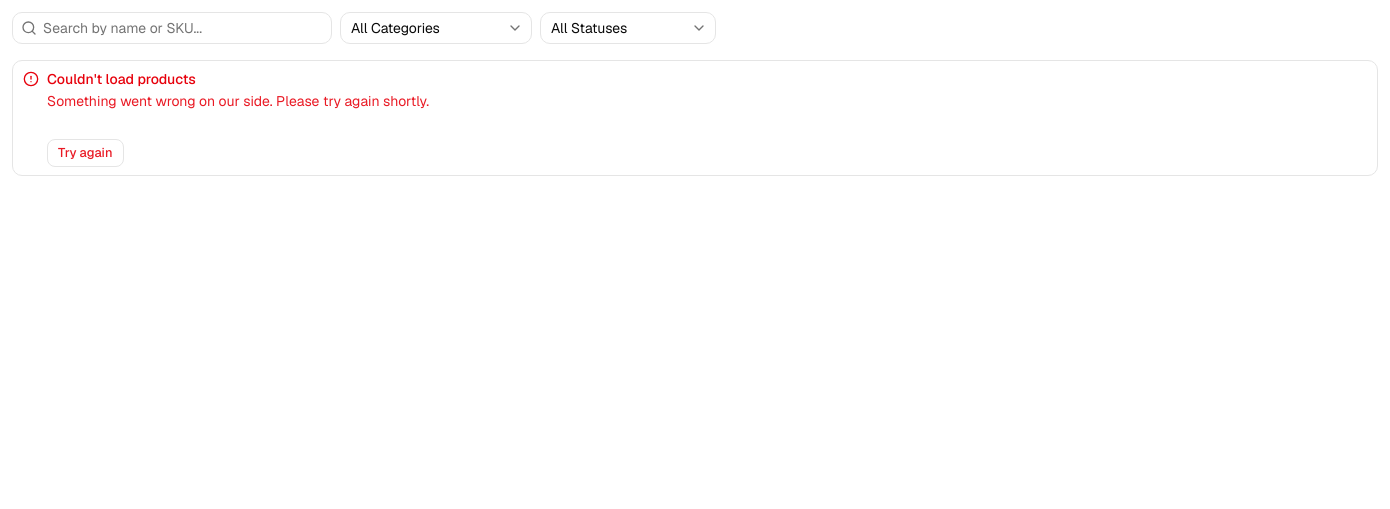
Test case: ProductsList loading › explains a failed load and retries on request
Expected: the message shows "Couldn't load products", [12,60,1378,176]
Expected: the message does not show "internal detail", [12,60,1378,176]
Click the button "Try again": (85, 153) [47,139,124,167]
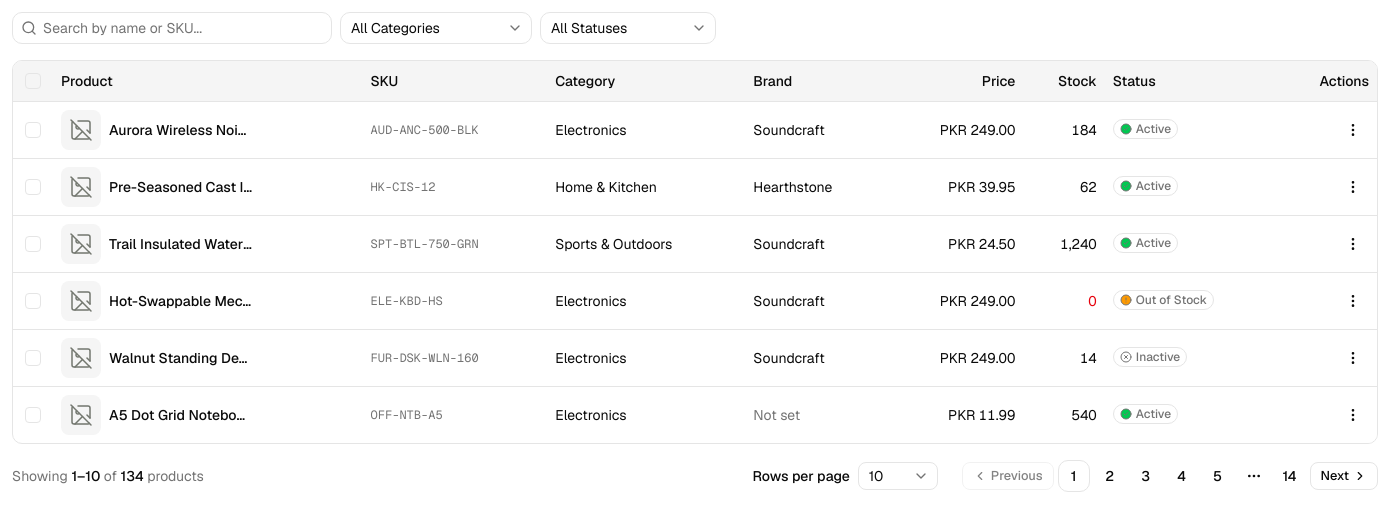
Now the text "Aurora Wireless Noise-Cancelling Headphones" is shown, box [109,120,253,140]
